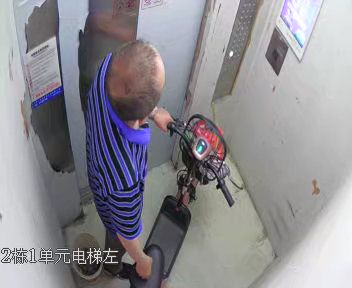Electric-bicycle: (129, 114, 241, 287)
